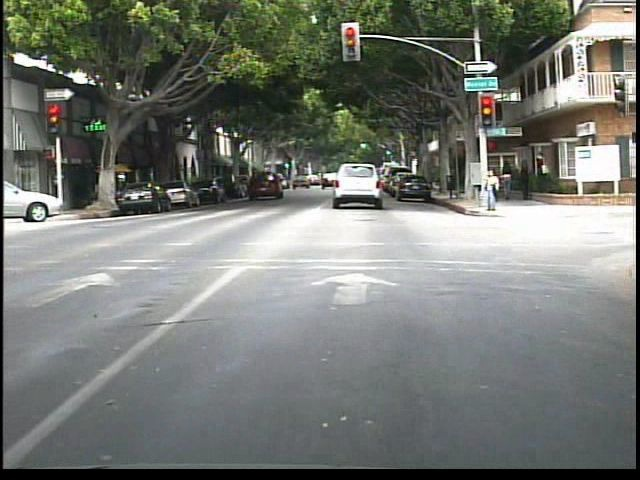person: (478, 166, 502, 215), (517, 159, 535, 204), (500, 158, 517, 203), (532, 151, 550, 192)
